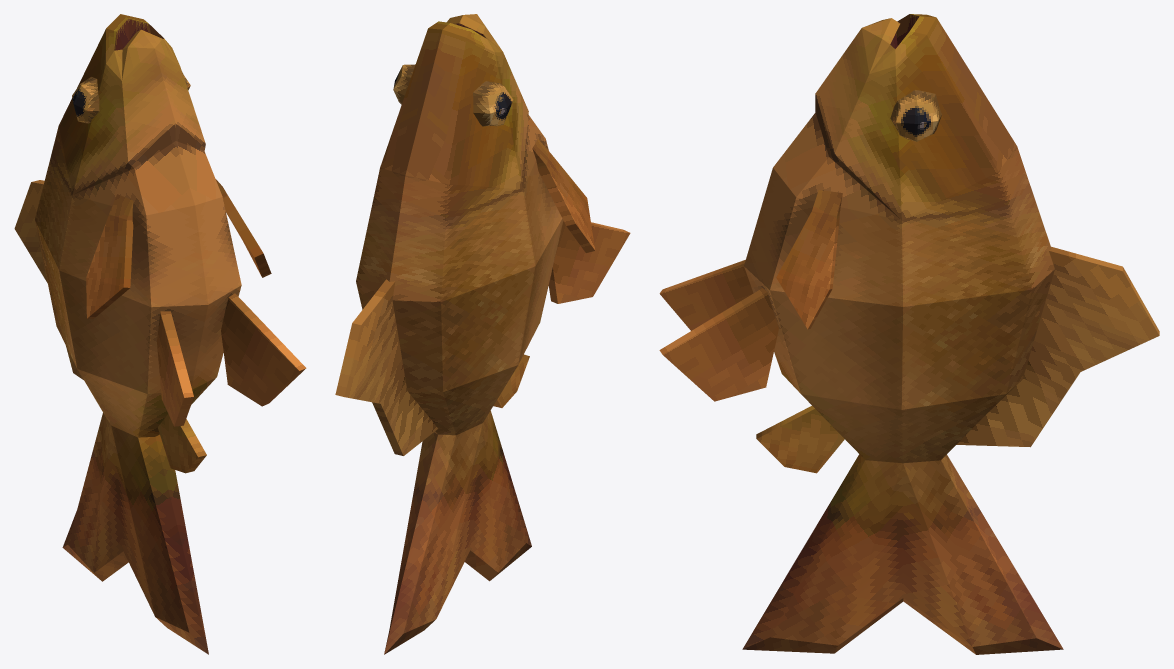
Rendered from item_fish_gold_fish.glb.
3 renders of one model, left to right at view 1: azimuth 30°, elevation 25°; view 2: azimuth 150°, elevation 25°; view 3: azimuth 270°, elevation 25°, orthographic. The views are drawn at different scales.
Parts seen in each view (by area): view 1: fish_goldfish; view 2: fish_goldfish; view 3: fish_goldfish.
Boxes of the visible parts, box(x1,y1,x2,y2) form: fish_goldfish: box(14, 14, 306, 654); fish_goldfish: box(335, 14, 630, 654); fish_goldfish: box(659, 14, 1159, 654).
Bounding box in the file's own units: 0.0849 × 0.2557 × 0.1815.
Materials: 1 (1 with a texture image).
